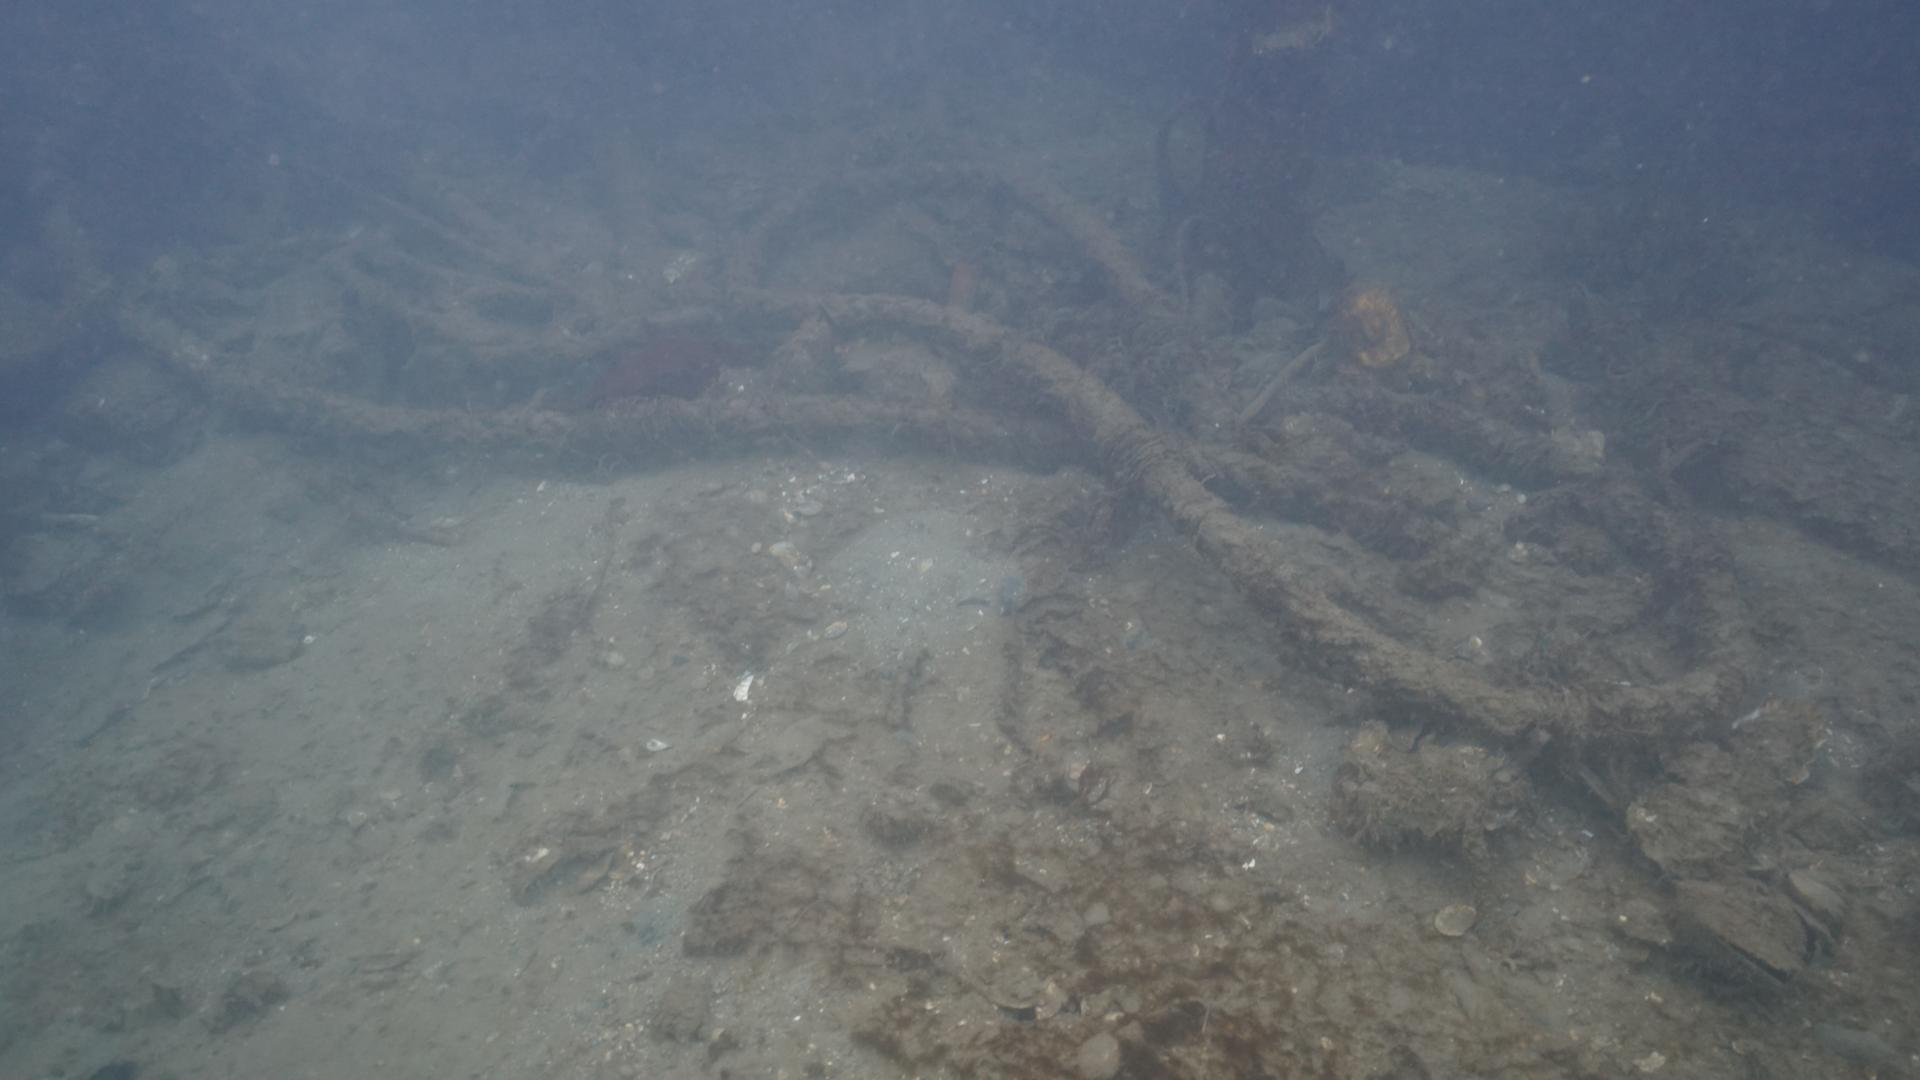bundle of ropes: (0, 133, 1766, 742)
